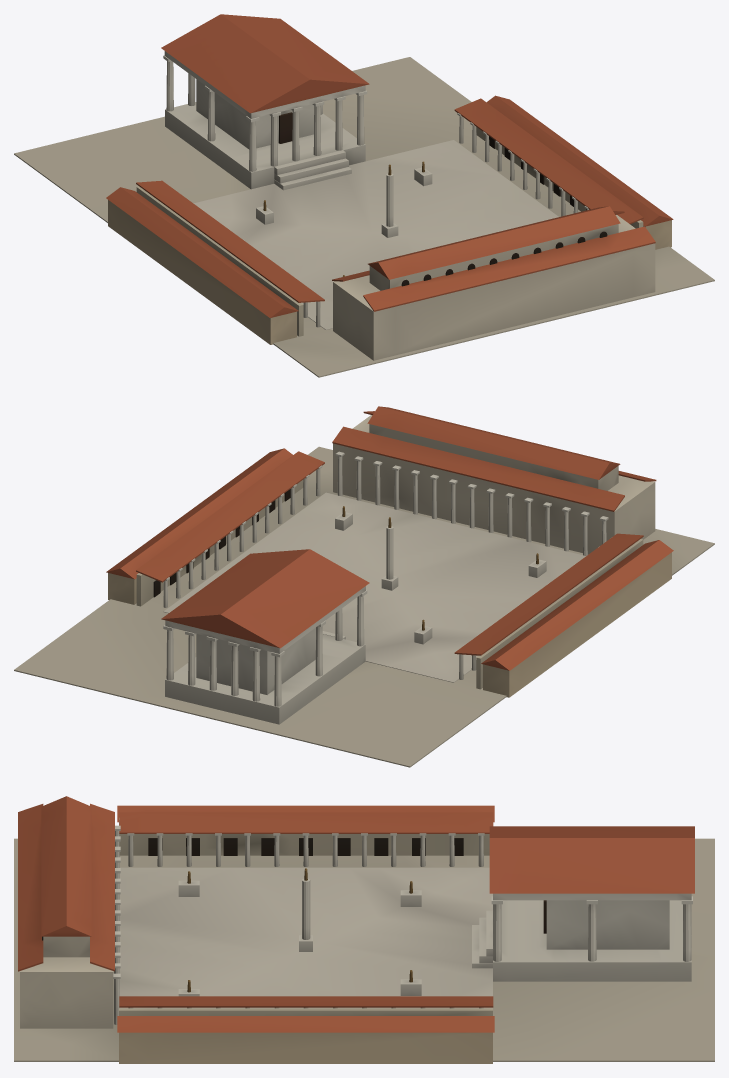
The model's file is forum.glb.
The picture shows the model from 3 angles, top to bottom: view 1: azimuth 30°, elevation 25°; view 2: azimuth 150°, elevation 25°; view 3: azimuth 270°, elevation 25°; orthographic projection. The views are drawn at different scales.
Visible parts, largest first — view 1: p1_porticoes, p0_ground, p3_roof, p2_Capitolium; view 2: p1_porticoes, p0_ground, p3_roof, p2_Capitolium; view 3: p1_porticoes, p0_ground, p3_roof, p2_Capitolium.
Part boxes in pixels (x1,y1,x2,y2): p1_porticoes: (106,95,673,360); p0_ground: (14,57,714,377); p3_roof: (161,14,369,118); p2_Capitolium: (163,55,432,276); p1_porticoes: (106,406,673,724); p0_ground: (14,446,714,767); p3_roof: (161,549,369,653); p2_Capitolium: (163,506,546,706); p1_porticoes: (18,796,691,1063); p0_ground: (14,838,714,1061); p3_roof: (489,826,694,900); p2_Capitolium: (178,868,692,996).
Size of the model in its own units: 91.8 by 21.41 by 120.
